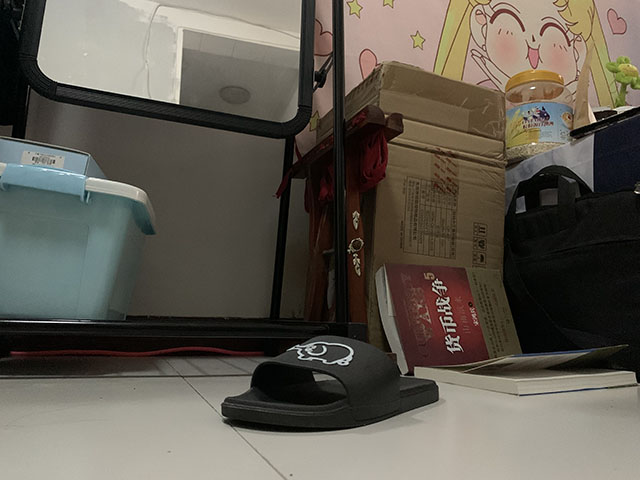book: (374, 261, 639, 399)
slippers: (220, 333, 442, 434)
wire: (9, 345, 266, 359)
